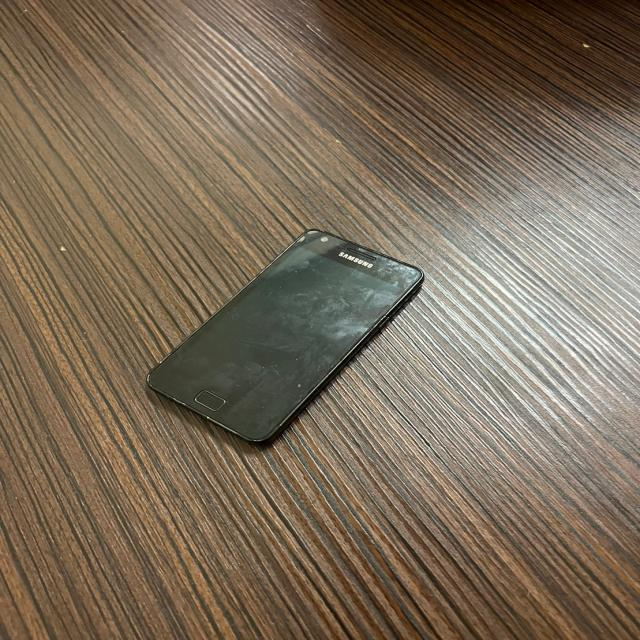Smartphone: (147, 230, 424, 443)
